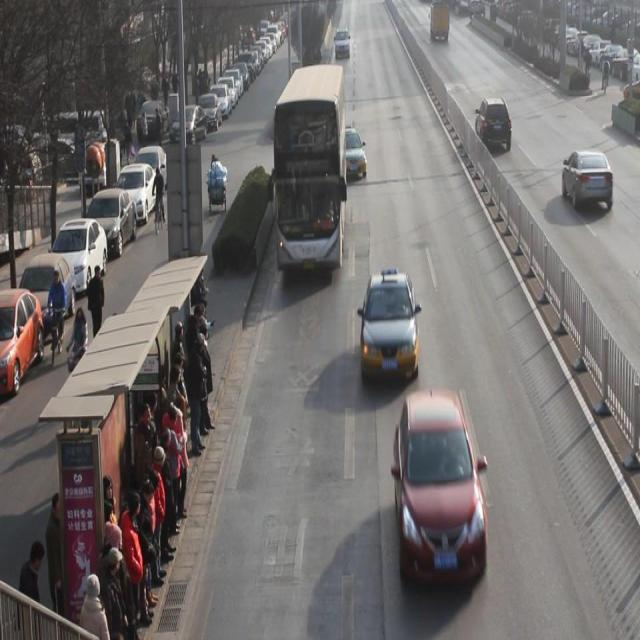car: (392, 392, 488, 598), (361, 277, 418, 386), (563, 150, 614, 214), (475, 99, 512, 155), (334, 130, 368, 182)
van: (274, 65, 345, 269)
